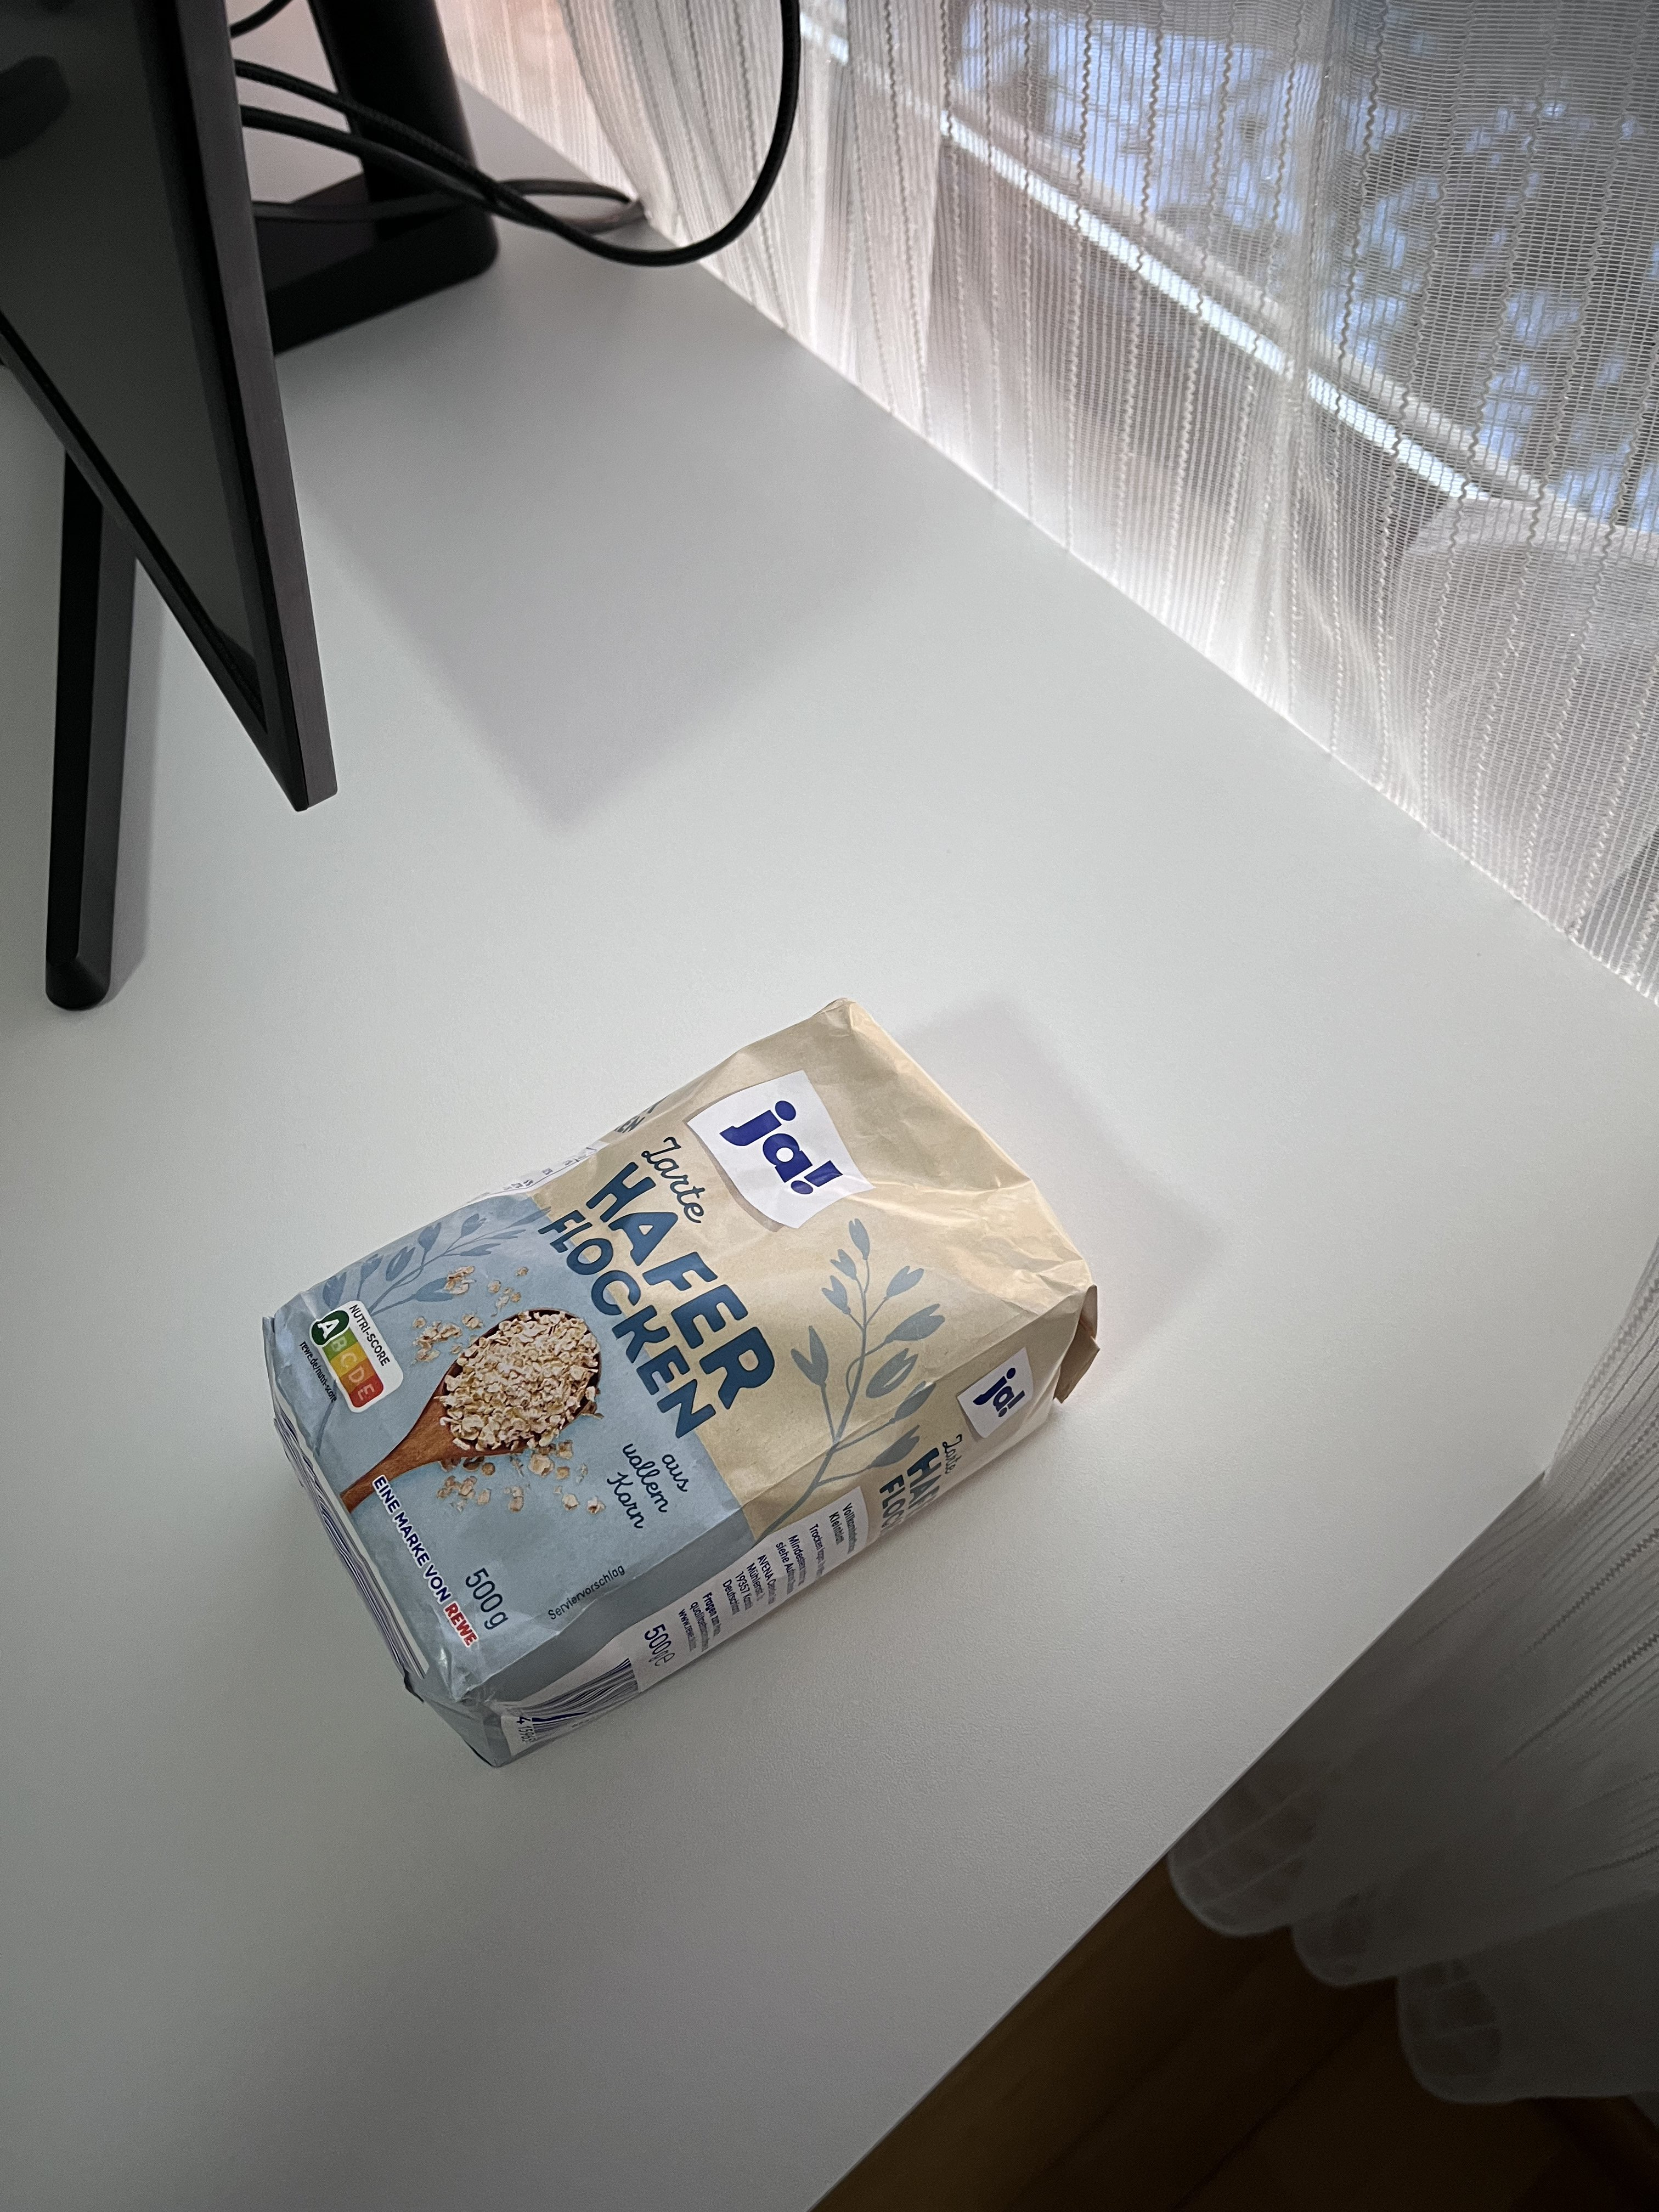haferflocken_ja: (263, 998, 1105, 1768)
